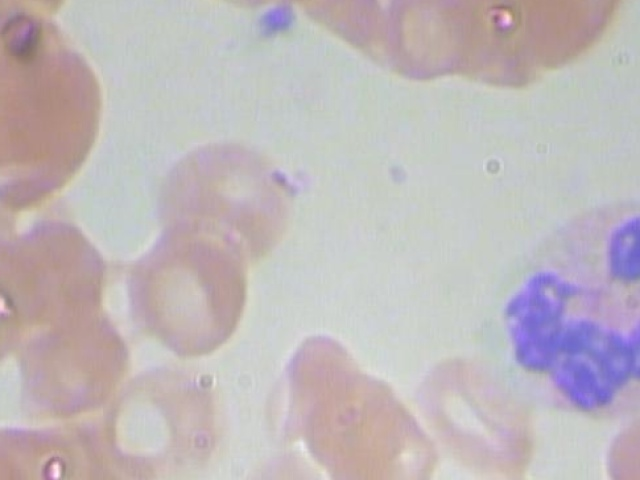Platelets: (243, 0, 305, 47)
RBC: (140, 133, 308, 263), (129, 220, 271, 364), (97, 341, 239, 480), (0, 46, 115, 214), (2, 284, 140, 421), (257, 317, 378, 463), (418, 348, 547, 480), (0, 197, 123, 334), (313, 357, 437, 480), (367, 0, 478, 82), (0, 419, 84, 480), (223, 446, 334, 480), (602, 390, 640, 480), (0, 250, 24, 383), (435, 469, 602, 480)
WBC: (466, 189, 640, 425)
